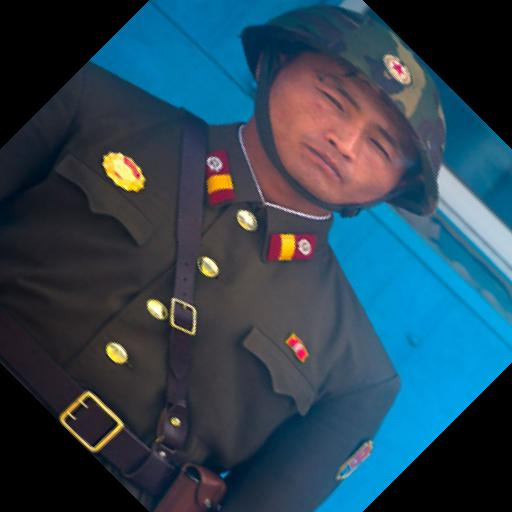north army: (6, 6, 459, 508)
